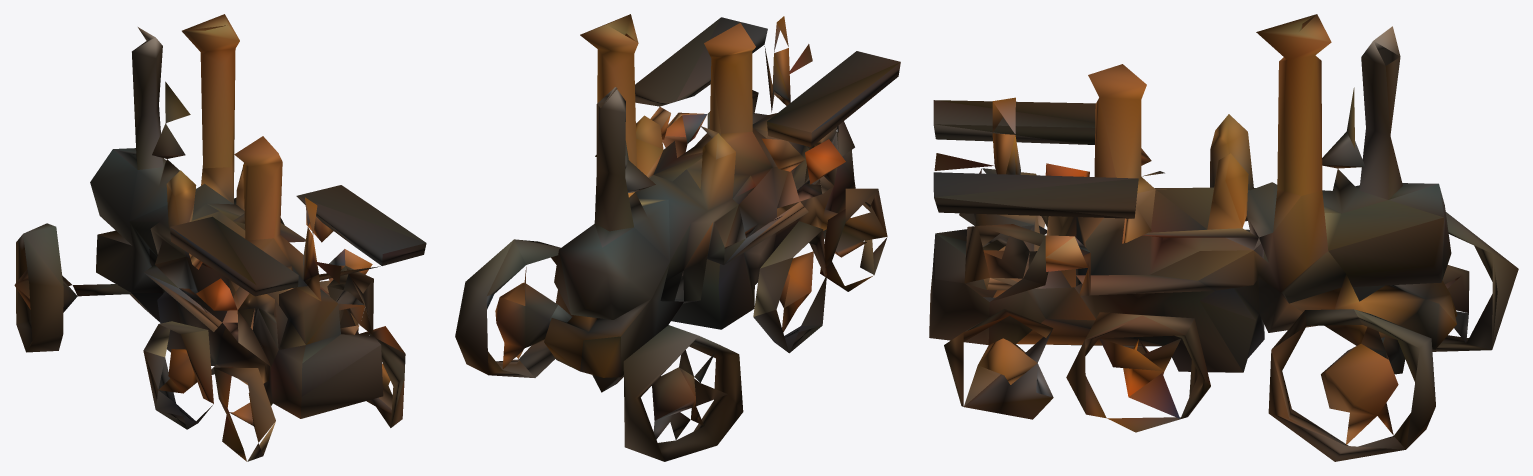
Rendered from 5885560-steampunk-tractor-1k.glb.
3 renders of one model, left to right at view 1: azimuth 30°, elevation 25°; view 2: azimuth 150°, elevation 25°; view 3: azimuth 270°, elevation 25°, orthographic. The views are drawn at different scales.
Visible parts, largest first — view 1: node0; view 2: node0; view 3: node0.
Part boxes in pixels (box(x1,y1,x2,y2)): node0: box(14, 14, 426, 461); node0: box(455, 14, 900, 461); node0: box(929, 14, 1518, 461).
Size of the model in its own units: 0.5511 by 0.6955 by 0.9526.
